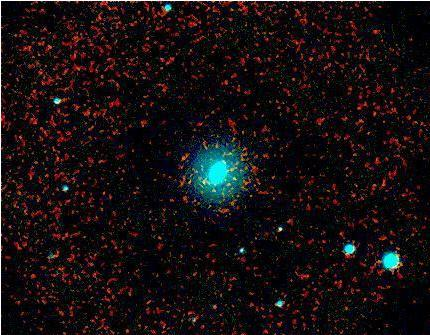star: (159, 197, 189, 227)
